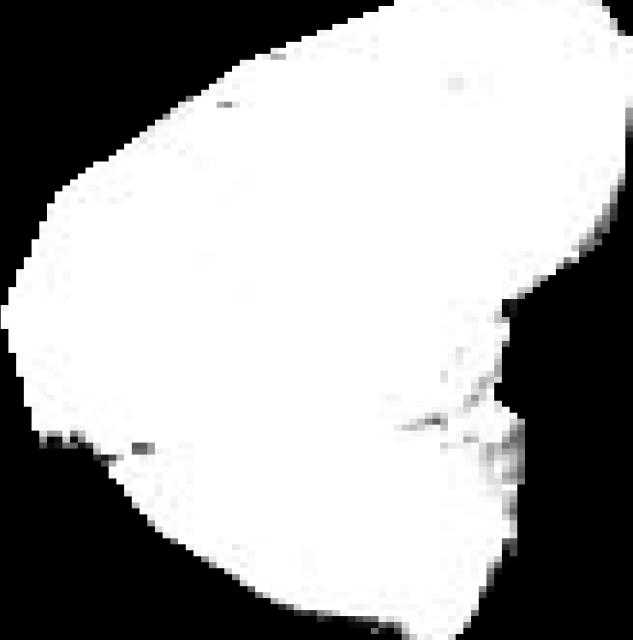tumor_less_chance: (1, 0, 633, 640)
